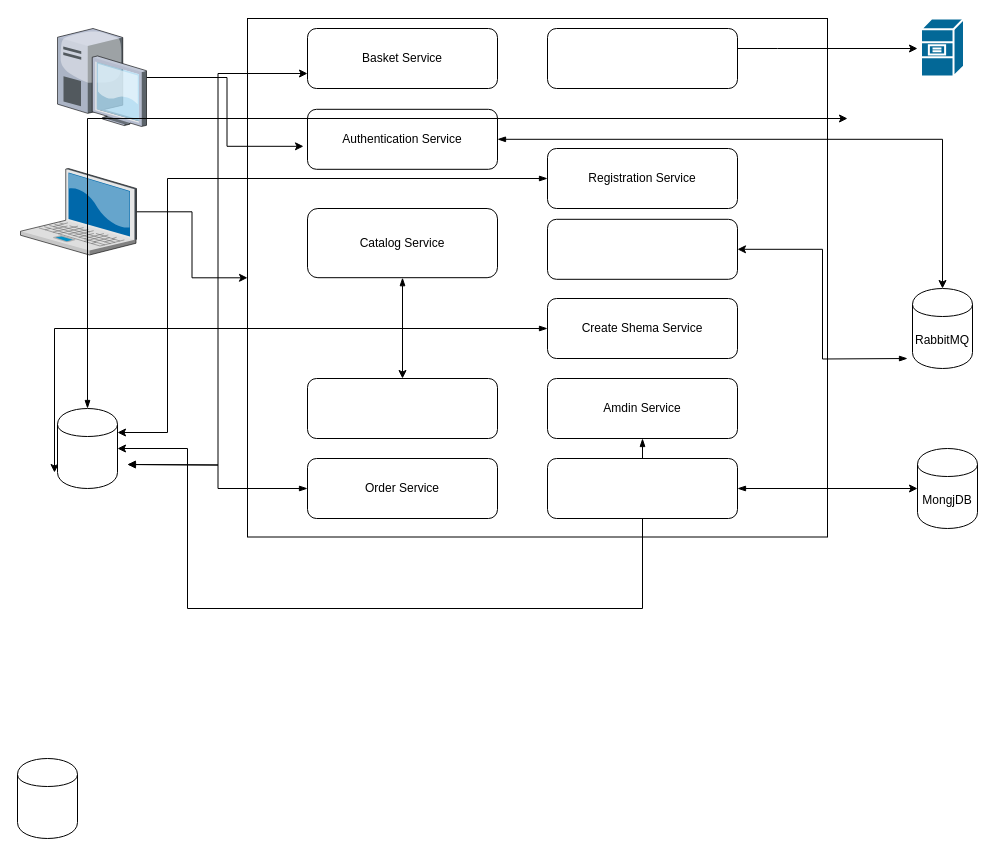
The diagram is 995 pixels wide and 856 high, and some of its shapes have lost their labels. Here are the shapes that lost their labels. From the top down, the centre of each, then its label:
At [642,58]: "Configuration".
At [642,248]: "Notification Service".
At [402,408]: "hzCatalog Service".
At [87,448]: "PostgreSQL".
At [642,488]: "Chat Service".
